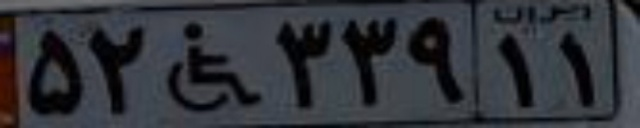1: (558, 29, 598, 109), (495, 31, 534, 108)
2: (88, 25, 146, 115)
3: (341, 16, 400, 108), (277, 17, 333, 109)
5: (25, 28, 85, 116)
9: (406, 15, 463, 105)
malol: (160, 21, 263, 113)
